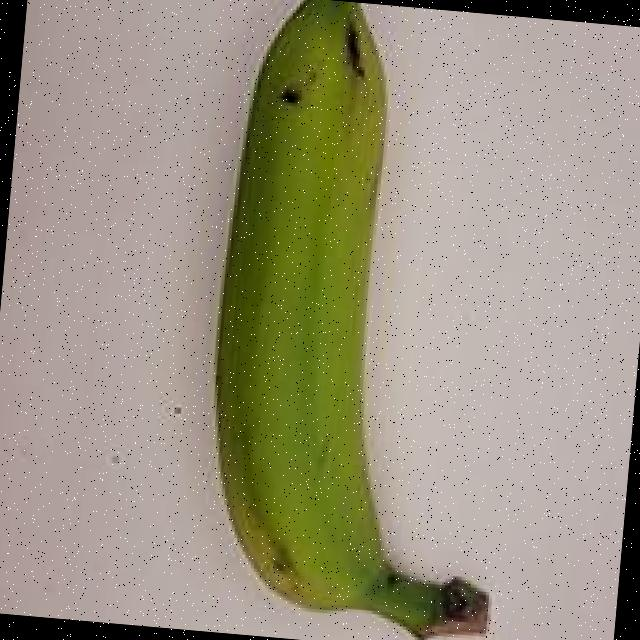Unripe: (148, 0, 577, 640)
